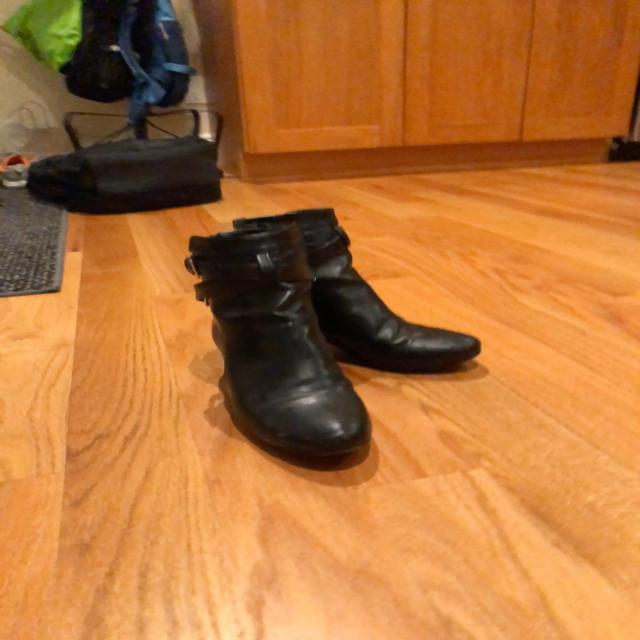shoe: (195, 241, 373, 474), (295, 211, 482, 375)
